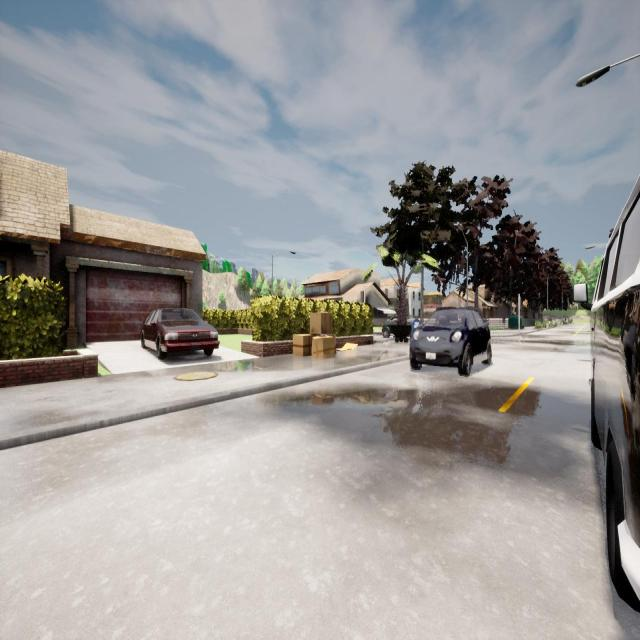Vehicle: (572, 176, 640, 611), (408, 307, 494, 378), (142, 304, 220, 358), (382, 314, 412, 340)
traffic_light: (360, 291, 364, 303), (518, 298, 522, 308)
